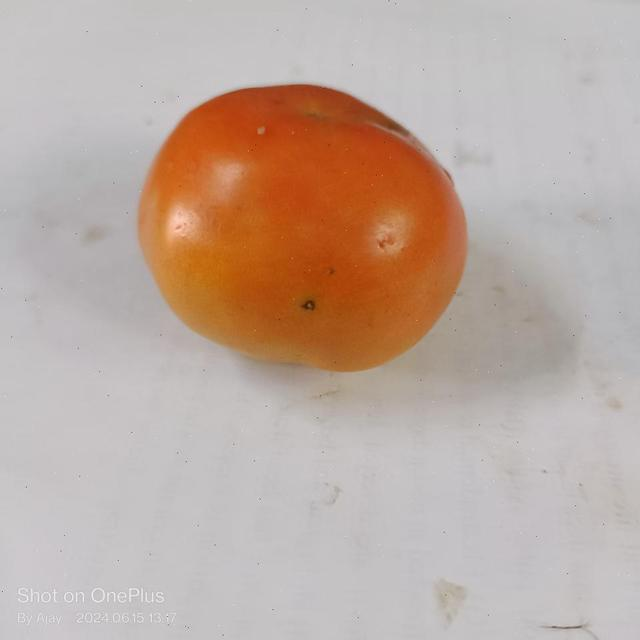Bacterial Spot Fruit: (198, 196, 215, 208)
